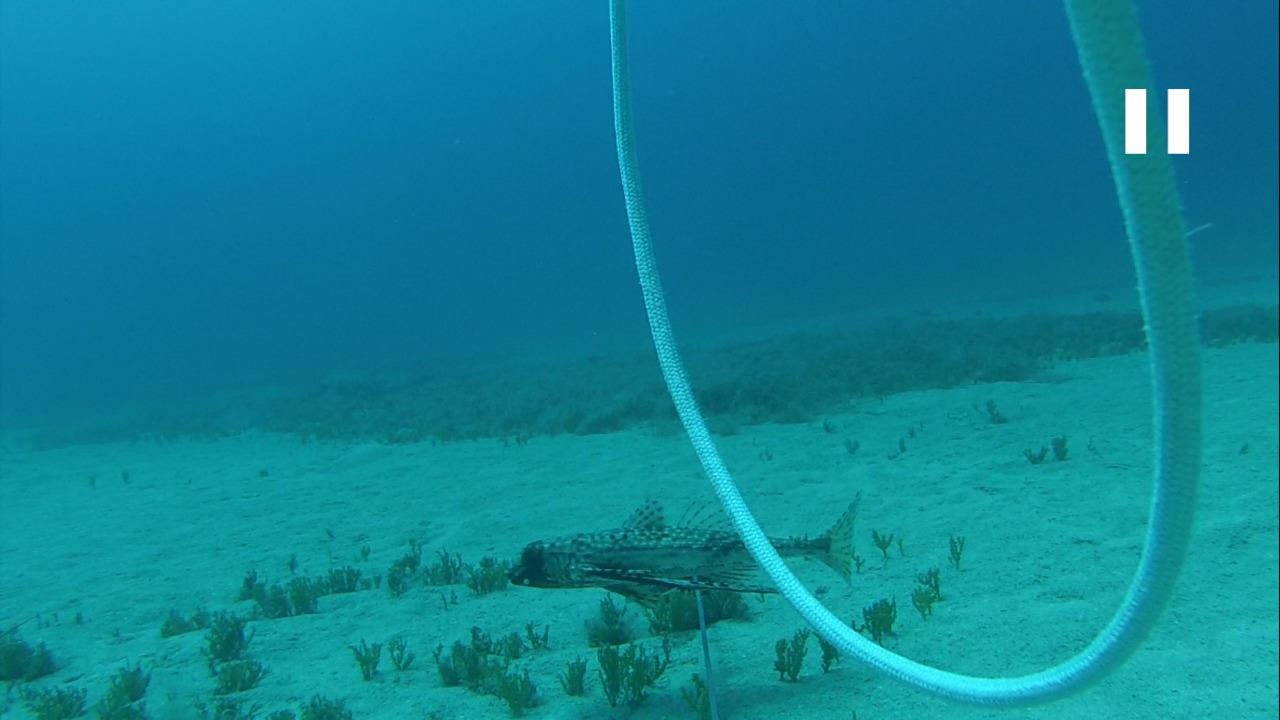dactylopterus: (497, 495, 867, 628)
